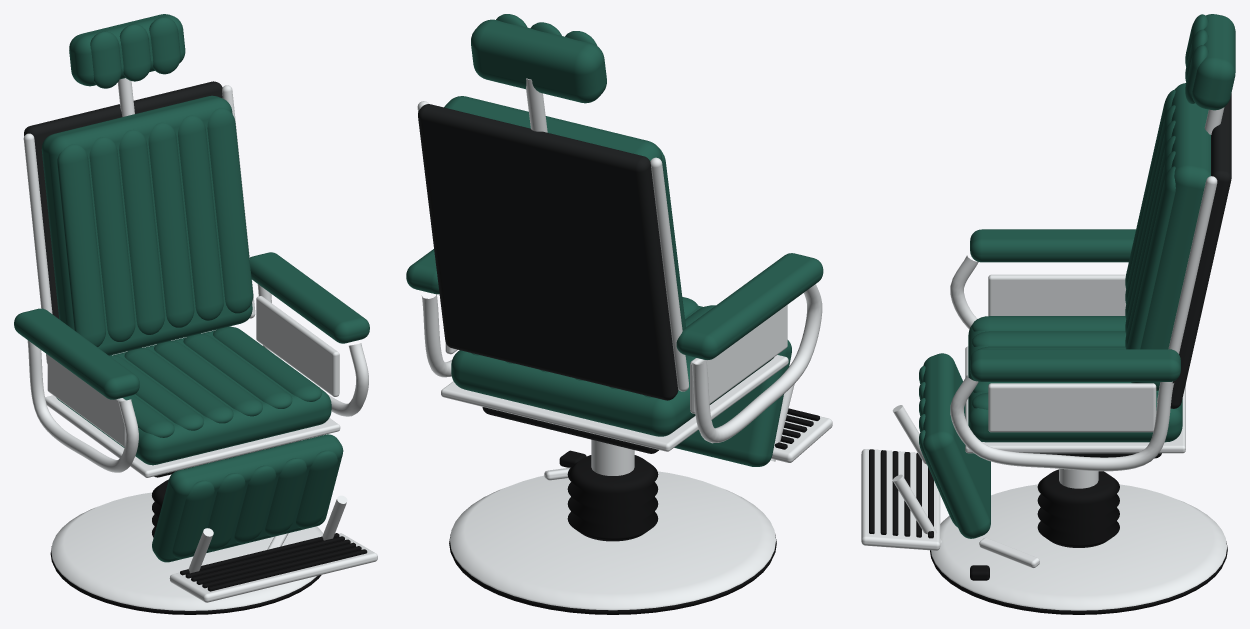
File: barber-chair.glb
3 renders of one model, left to right at view 1: azimuth 30°, elevation 25°; view 2: azimuth 150°, elevation 25°; view 3: azimuth 270°, elevation 25°, orthographic. The views are drawn at different scales.
Visible parts, largest first — view 1: Leather, Chrome, Rubber, BlackMetal; view 2: BlackMetal, Chrome, Leather, Rubber; view 3: Chrome, Leather, Rubber, BlackMetal.
Part boxes in pixels (<box>): Leather: <box>14,14,369,562</box>; Chrome: <box>23,78,377,610</box>; Rubber: <box>50,479,367,614</box>; BlackMetal: <box>24,81,222,477</box>; BlackMetal: <box>418,104,678,453</box>; Chrome: <box>417,78,832,610</box>; Leather: <box>406,14,823,466</box>; Rubber: <box>449,408,819,614</box>; Chrome: <box>861,107,1226,610</box>; Leather: <box>919,14,1235,538</box>; Rubber: <box>869,449,1227,614</box>; BlackMetal: <box>1033,93,1231,458</box>.
Bounding box in the file's own units: 1.98 × 3.5 × 2.27.
